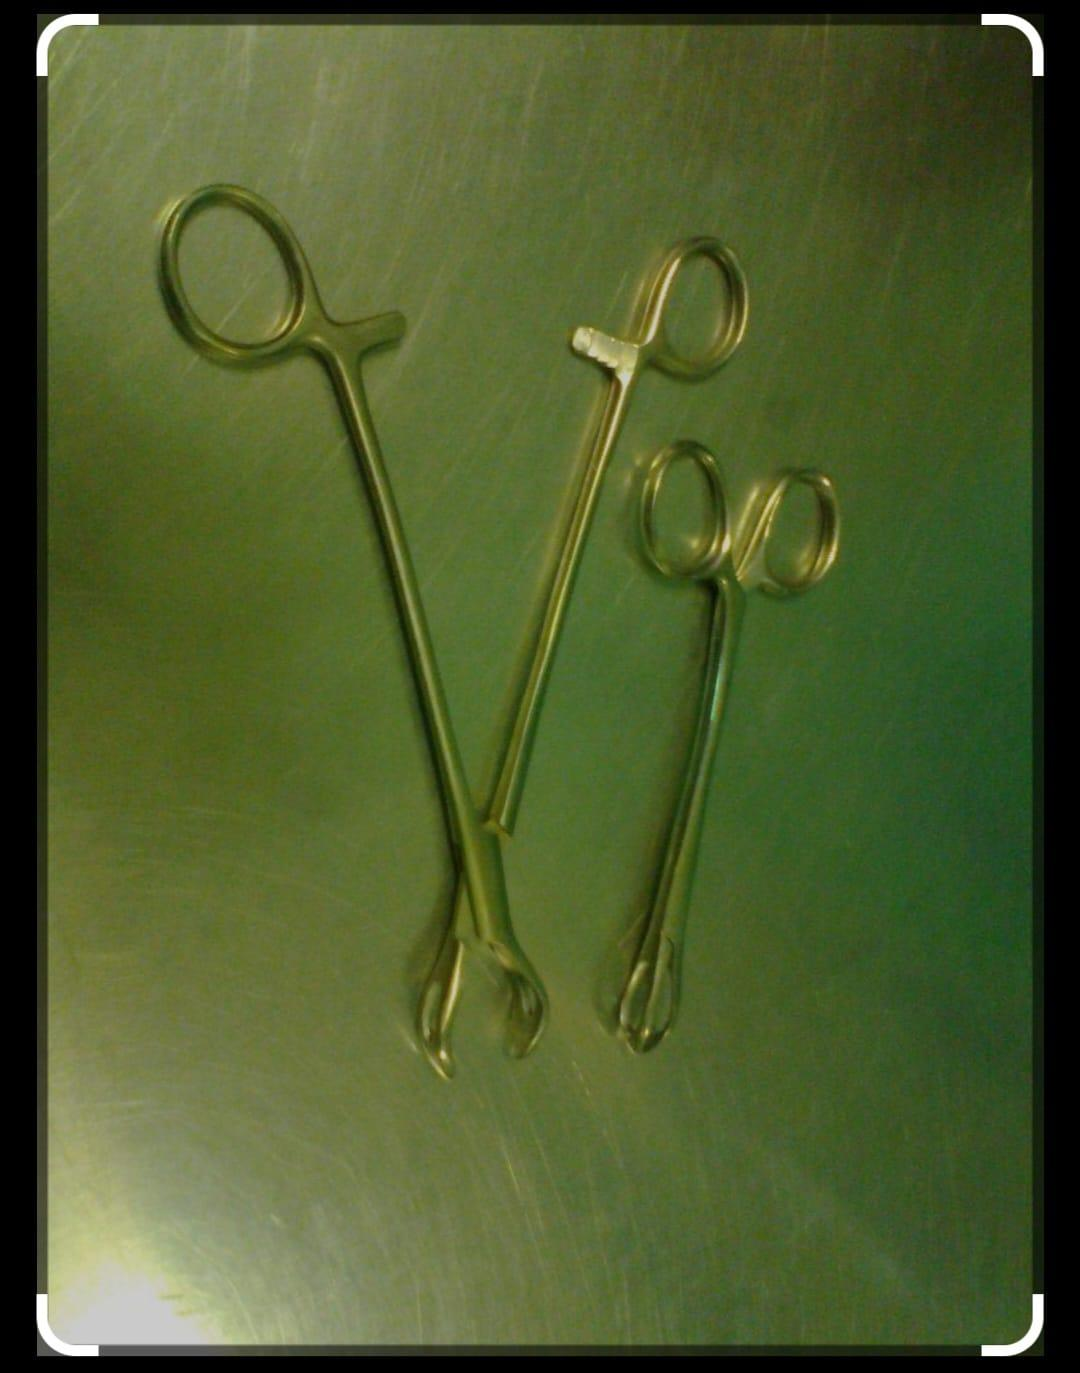Lane Tissue Forceps: (150, 174, 750, 1085), (604, 442, 866, 1052)
